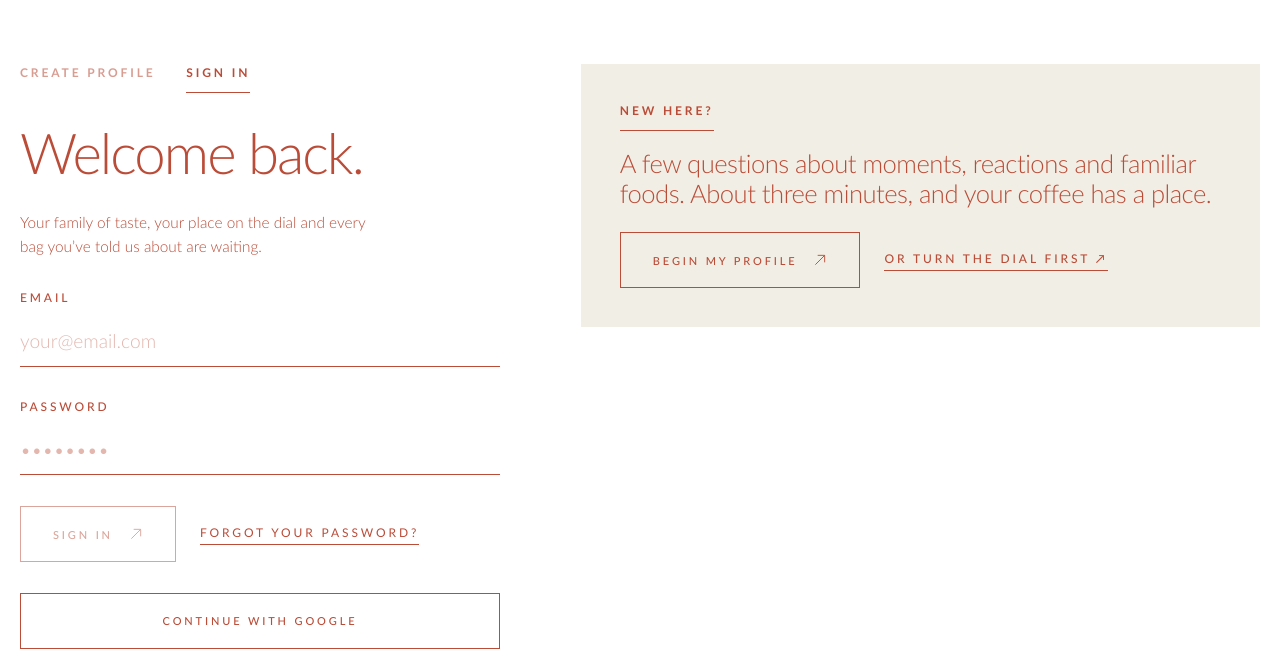
it: /sign-in › maps the Firebase error to the page words and stays on the page
In the field labelled "Email": coordinates (260, 342) [20, 317, 500, 367], type "a@b.co"
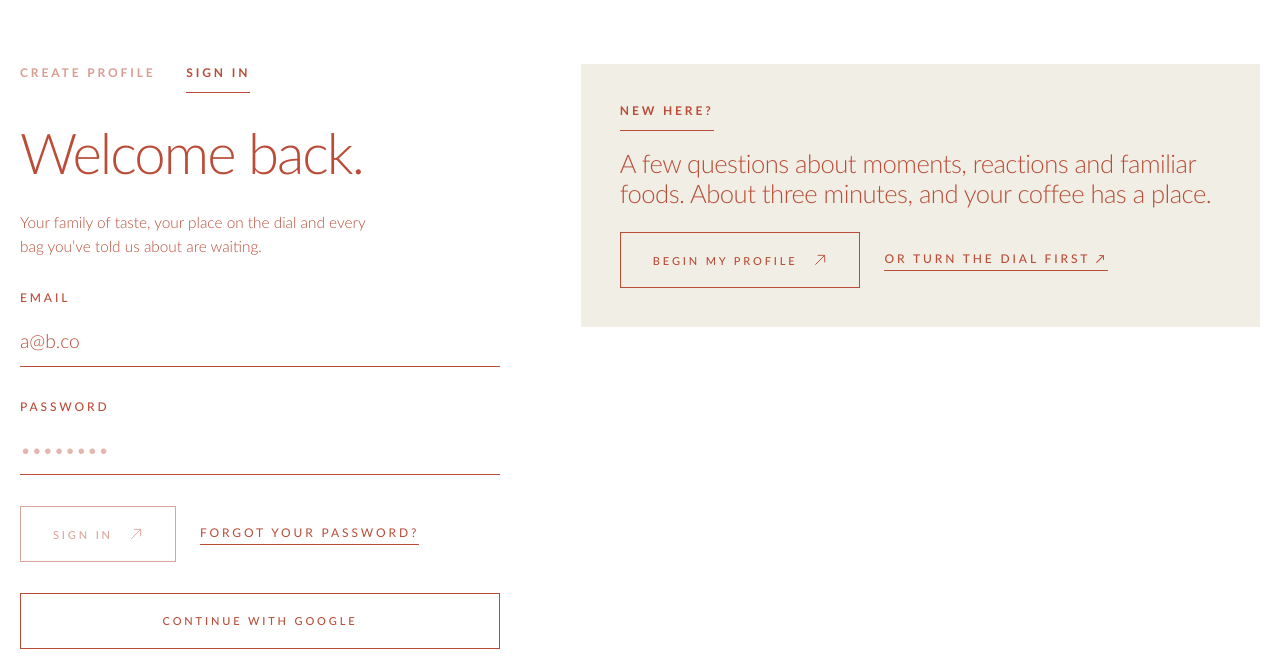
In the password field labelled "Password": coordinates (260, 450) [20, 426, 500, 475], type "nope123"
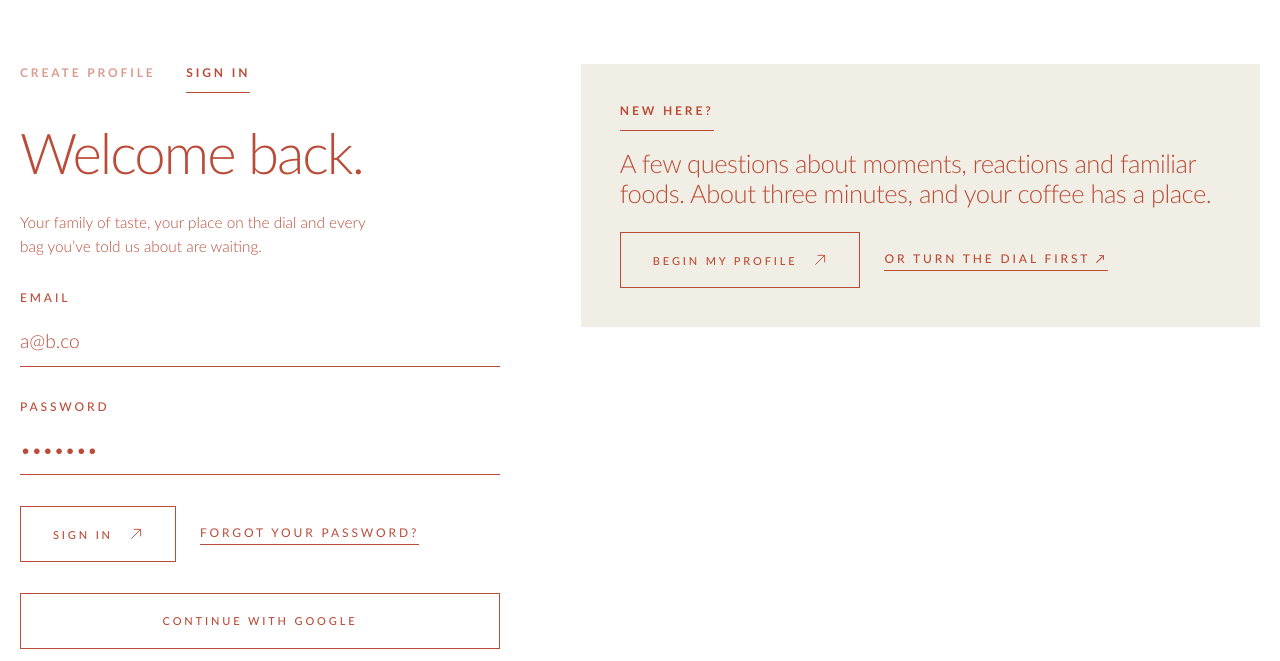
Click the button with test id "sign-in-submit": coordinates (98, 534) [20, 506, 176, 562]
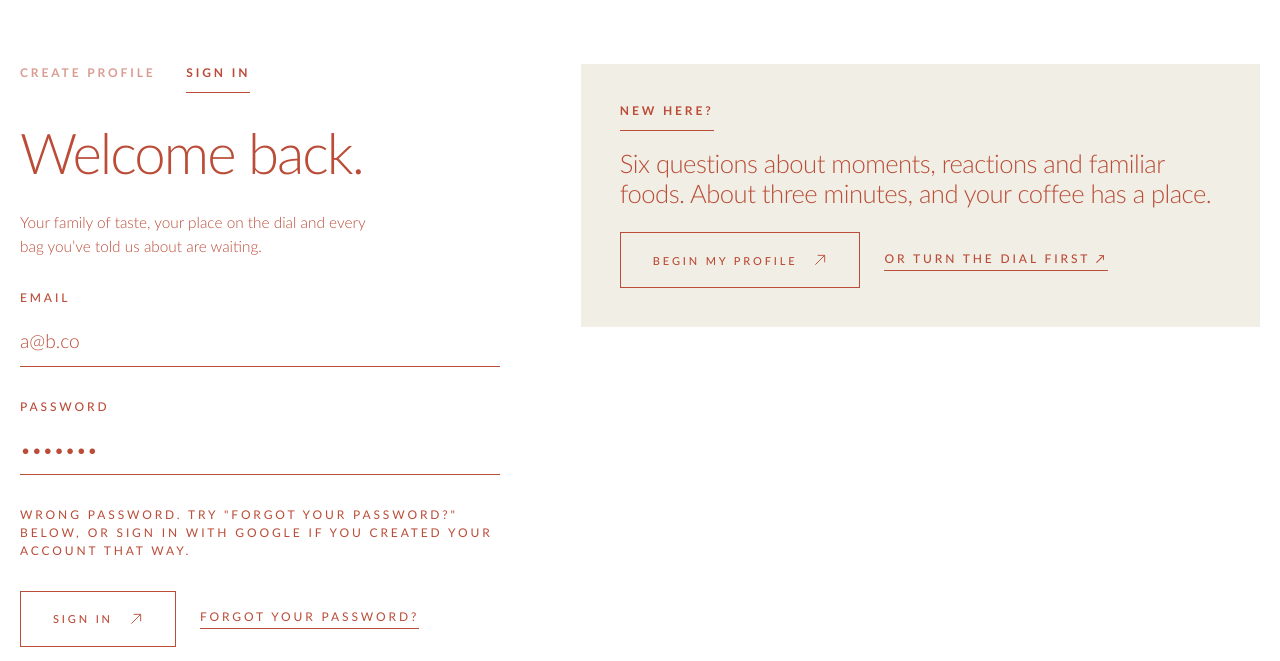
Check: the message with test id "sign-in-error" shows "Wrong password.", box [20, 507, 493, 558]
